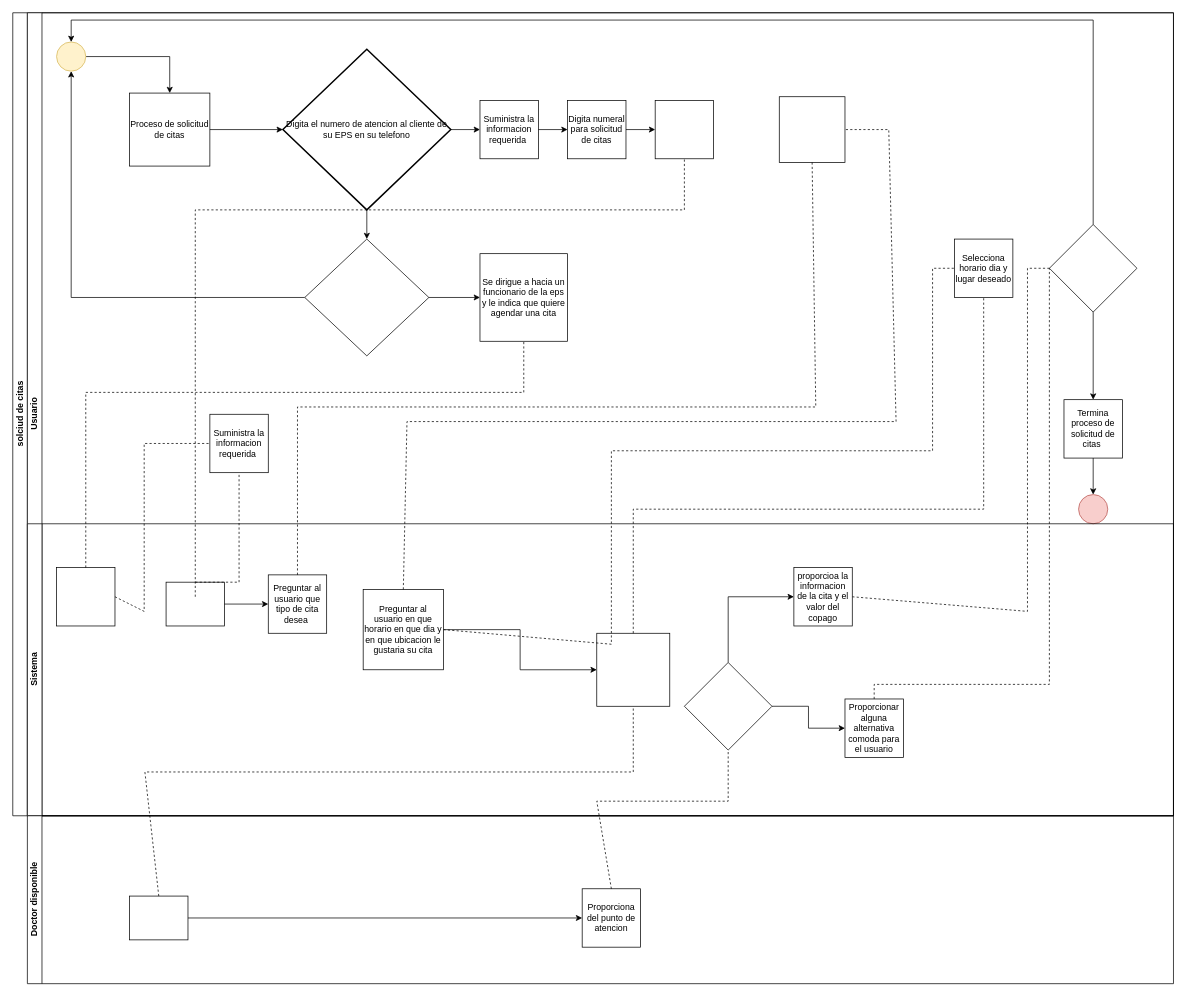
This 1186x996 diagram has some shape labels left out. Here are the shapes that lost their labels. From the top down, the centre of each, then its label:
the point at 684,129: Espera en la linea a que lo atendia un funcionario de la eps
the point at 812,129: Selecciona el tipo de cita
the point at 1093,268: Acepta la agendacion de la cita seleccionada
the point at 366,297: Se dirigue a su centro de antencion
the point at 85,596: Solicita los datos del usuario
the point at 194,603: Verifica datos
the point at 633,669: Busca doctores disponible en la fecha, hora y lugar deseado
the point at 728,706: encuentra disponibilidad en la fecha, hora y lugar deseado
the point at 158,917: Proporciona de disponibilidad de agenda
